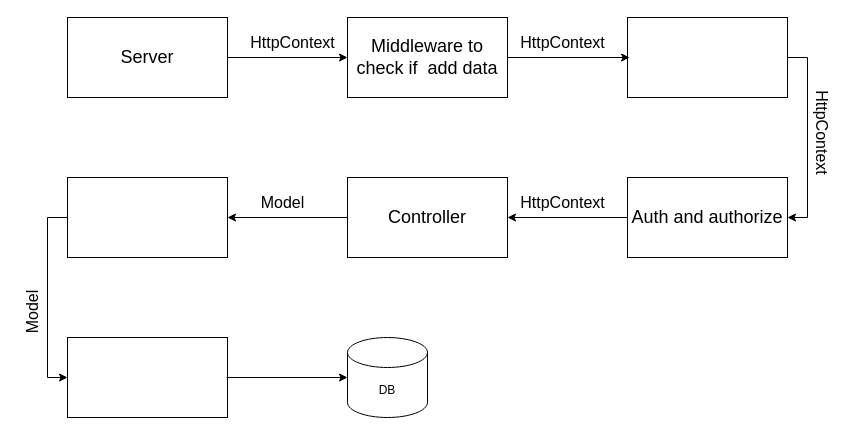
The diagram is 854 pixels wide and 435 high, and some of its shapes have lost their labels. The centre of each missing label's shape, as x and y in pixels:
"Middleware to check if auth info in context" belongs at (707,57).
"Repository" belongs at (147,377).
"Service" belongs at (147,217).
